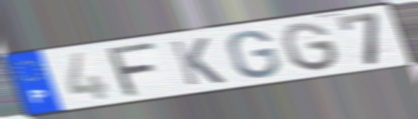4: (65, 50, 112, 103)
7: (334, 10, 384, 68)
F: (106, 40, 161, 100)
G: (279, 21, 344, 73), (226, 29, 283, 80)
K: (167, 35, 228, 88)
